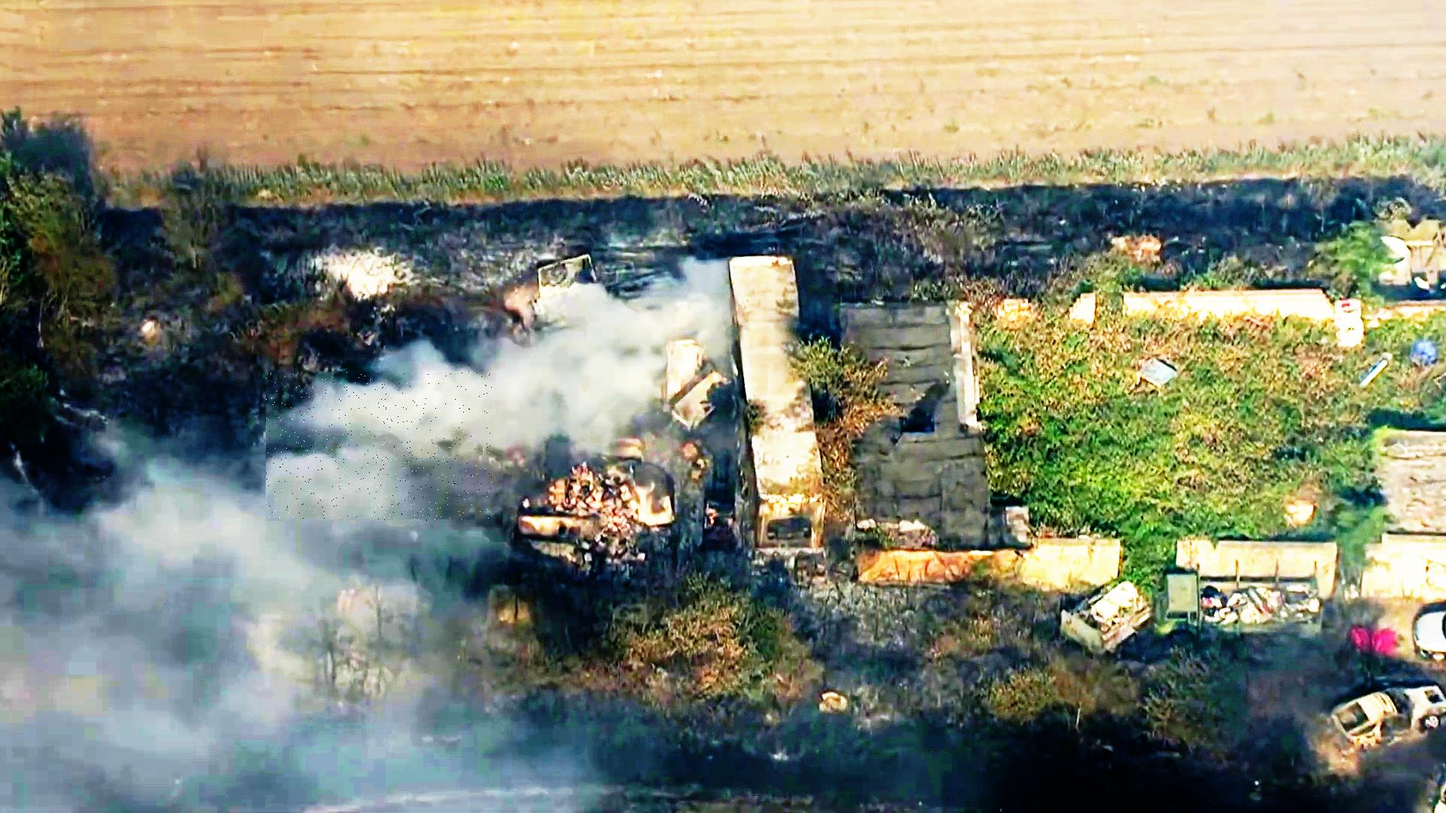smoke: (266, 371, 492, 521)
